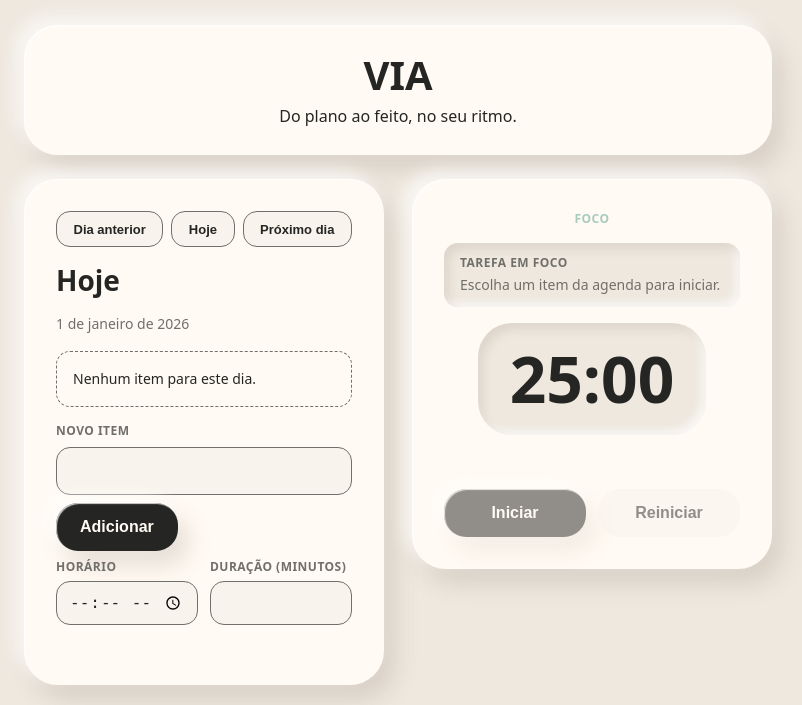
Test case: App integration: agenda planning and focus timer › keeps an added item visible after starting the timer
In the field labelled "Novo item": (204, 471) [56,447,352,495], type "Write the report"
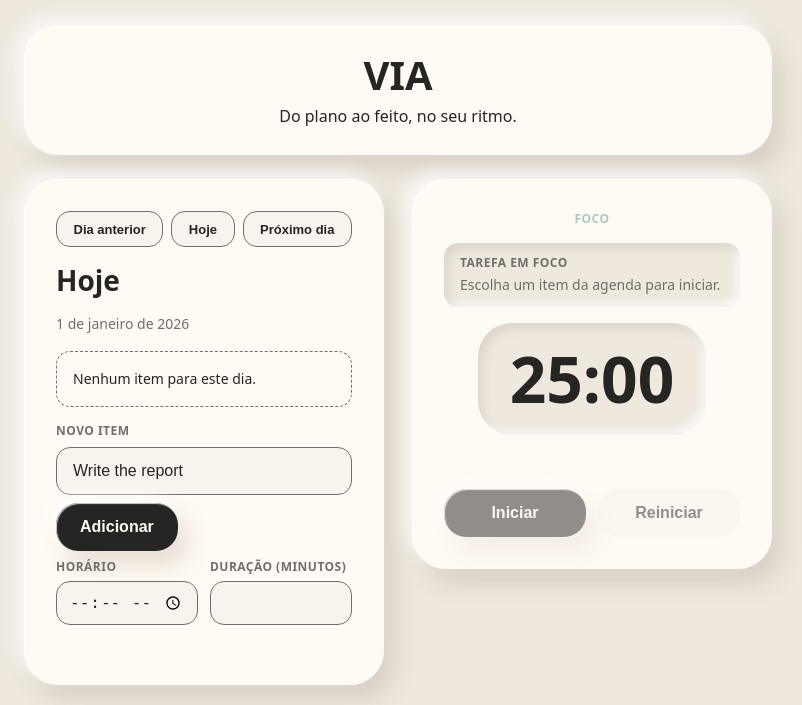
Click the button "Adicionar": (117, 527) [56,503,178,551]
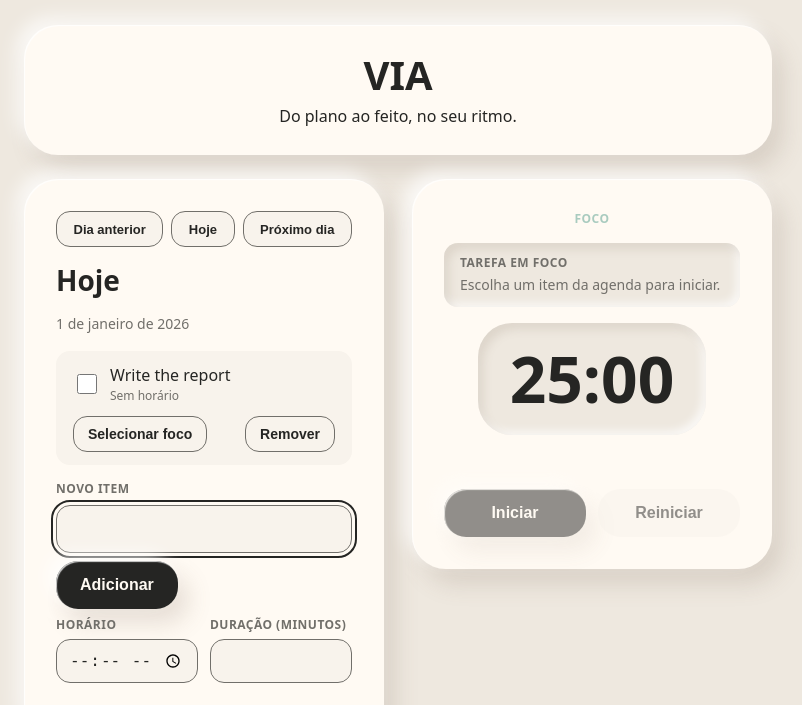
Click the button named "Selecionar item \"Write the report\" para foco": (140, 434) [73,416,207,452]
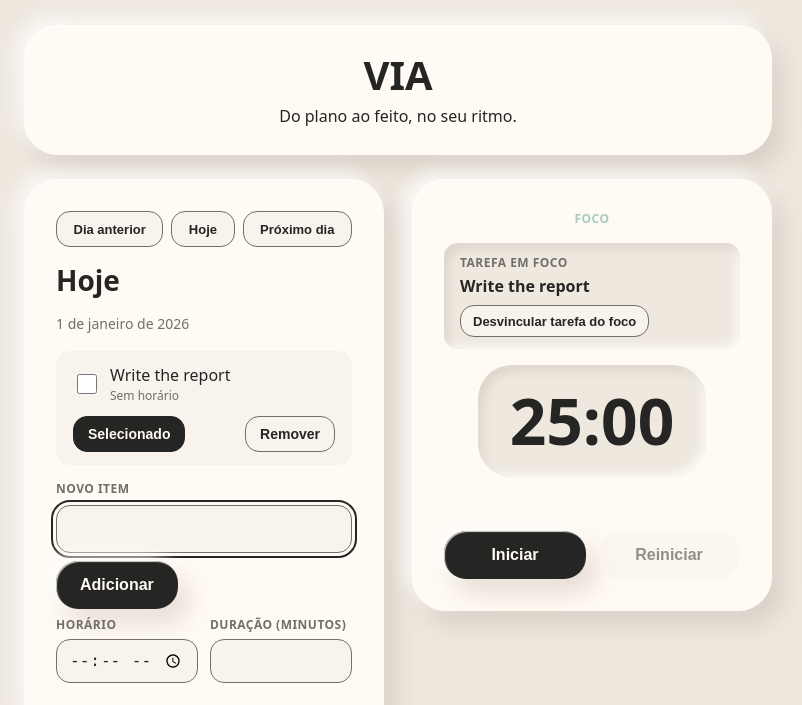
Click the button "Iniciar": (515, 555) [444,531,586,579]
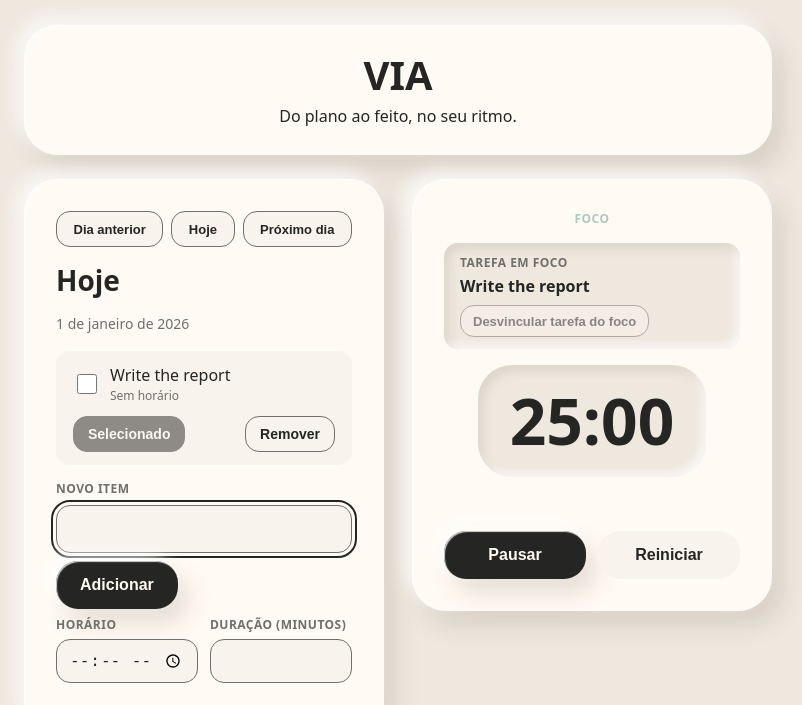
Result: the text "Write the report" below "1 de janeiro de 2026" is shown at [110,364,230,386]
Result: the button "Pausar" is shown at [444,531,586,579]
